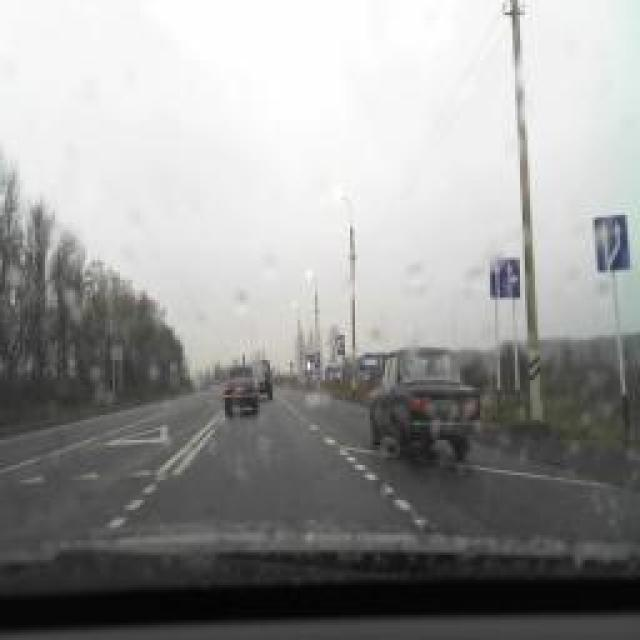sign: (592, 214, 630, 271), (489, 258, 521, 298)
